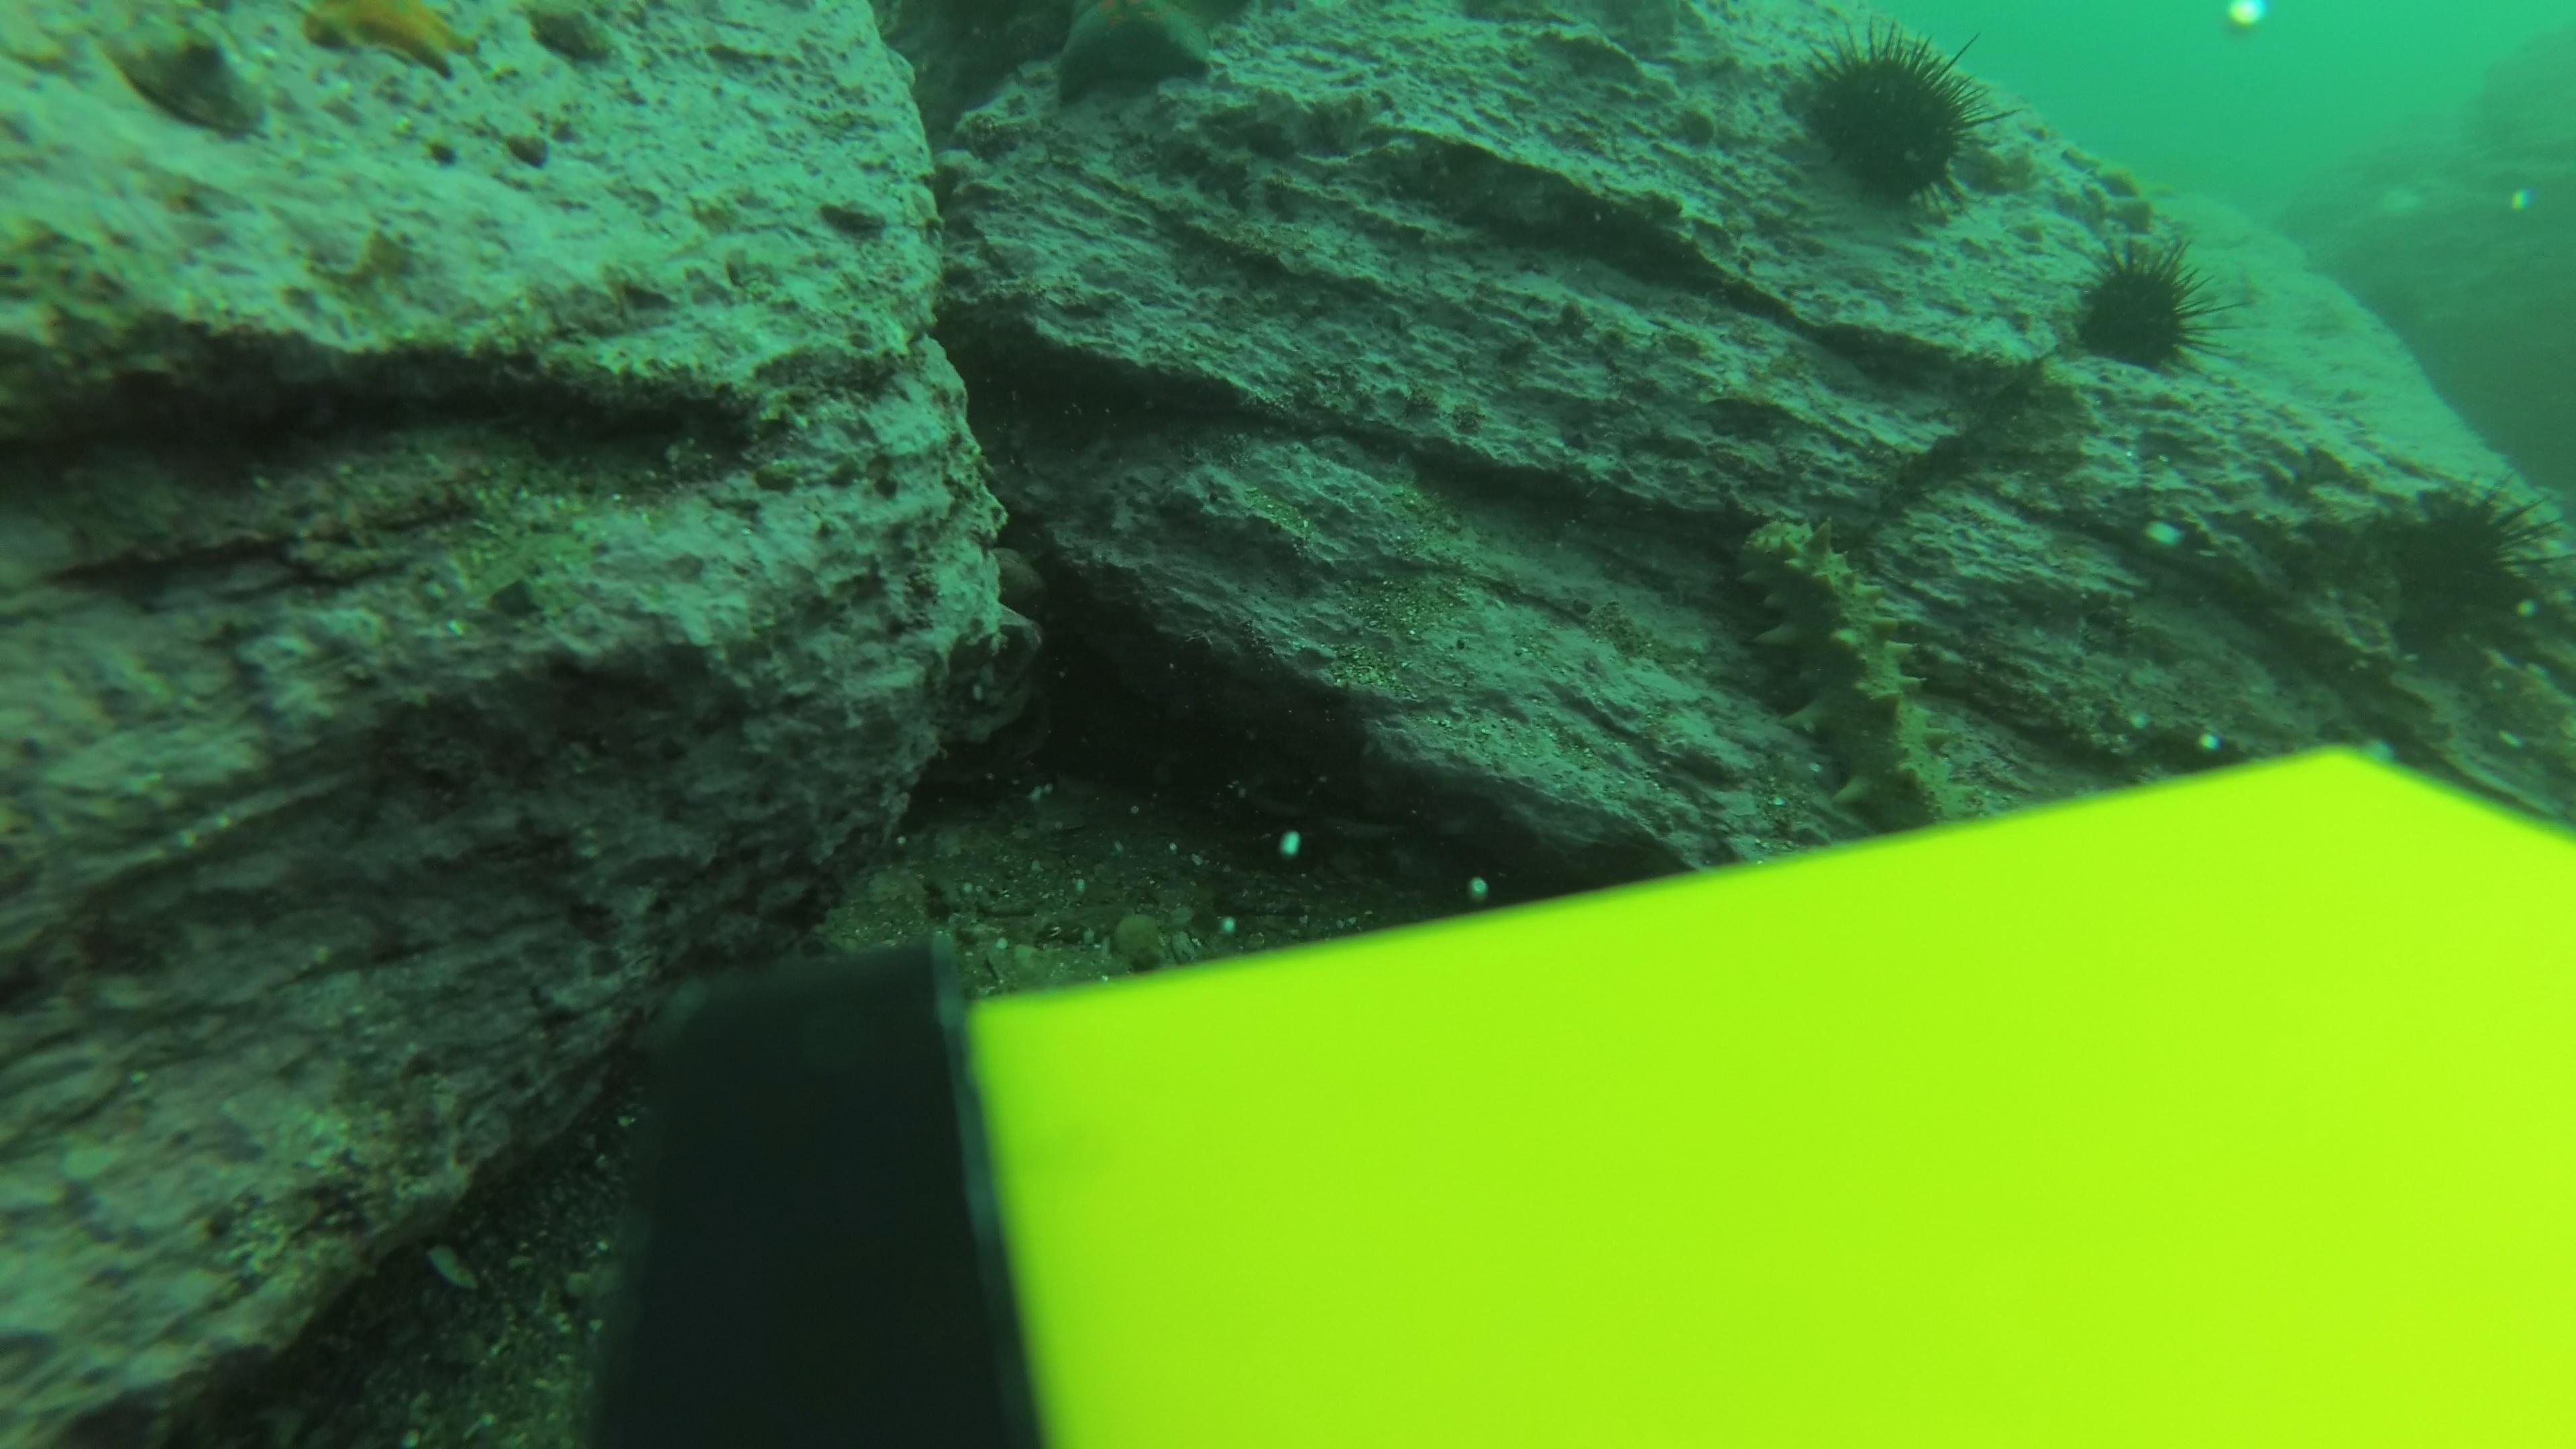echinus: (1782, 19, 2012, 219), (2362, 471, 2567, 671), (2061, 234, 2224, 380)
holothurian: (1721, 502, 1962, 833)
starfish: (1031, 2, 1242, 111), (288, 0, 485, 81), (2054, 140, 2162, 214)
